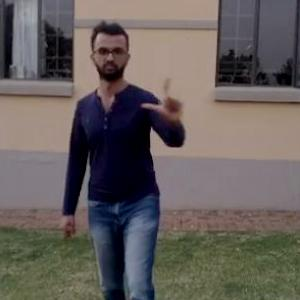land_hand: (130, 72, 182, 132)
